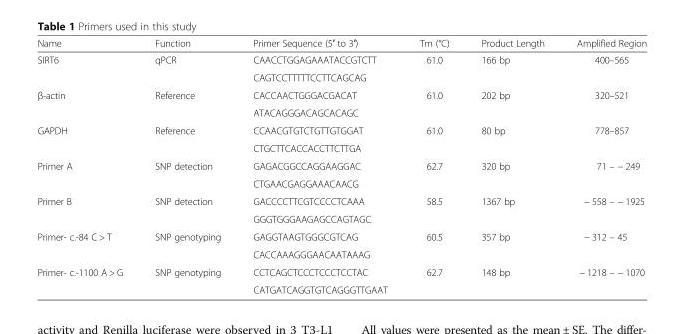table: (36, 37, 646, 295)
table column: (236, 37, 402, 295), (36, 37, 138, 295), (138, 37, 236, 295), (464, 37, 559, 295), (559, 37, 646, 295), (402, 37, 464, 295)
table column header: (36, 37, 646, 51)
table row: (36, 85, 646, 103), (36, 103, 646, 121), (36, 121, 646, 139), (36, 156, 646, 174), (36, 191, 646, 209), (36, 209, 646, 227), (36, 227, 646, 245), (36, 262, 646, 280), (36, 51, 646, 68), (36, 68, 646, 85), (36, 139, 646, 156), (36, 174, 646, 191), (36, 245, 646, 262), (36, 280, 646, 295), (36, 37, 646, 51)
table spanning cell: (36, 85, 138, 121), (36, 191, 138, 227), (36, 121, 138, 156), (36, 156, 138, 191), (36, 227, 138, 262), (138, 85, 236, 121), (138, 191, 236, 227), (36, 51, 138, 85), (138, 121, 236, 156), (138, 156, 236, 191), (138, 227, 236, 262), (464, 85, 559, 121), (464, 191, 559, 227), (36, 262, 138, 295), (138, 51, 236, 85), (464, 121, 559, 156), (464, 156, 559, 191), (464, 227, 559, 262), (138, 262, 236, 295), (464, 51, 559, 85), (464, 262, 559, 295), (559, 85, 646, 121), (559, 191, 646, 227), (559, 121, 646, 156), (559, 156, 646, 191), (559, 227, 646, 262), (559, 51, 646, 85), (559, 262, 646, 295), (402, 85, 464, 121), (402, 191, 464, 227), (402, 121, 464, 156), (402, 156, 464, 191), (402, 227, 464, 262), (402, 51, 464, 85), (402, 262, 464, 295)
